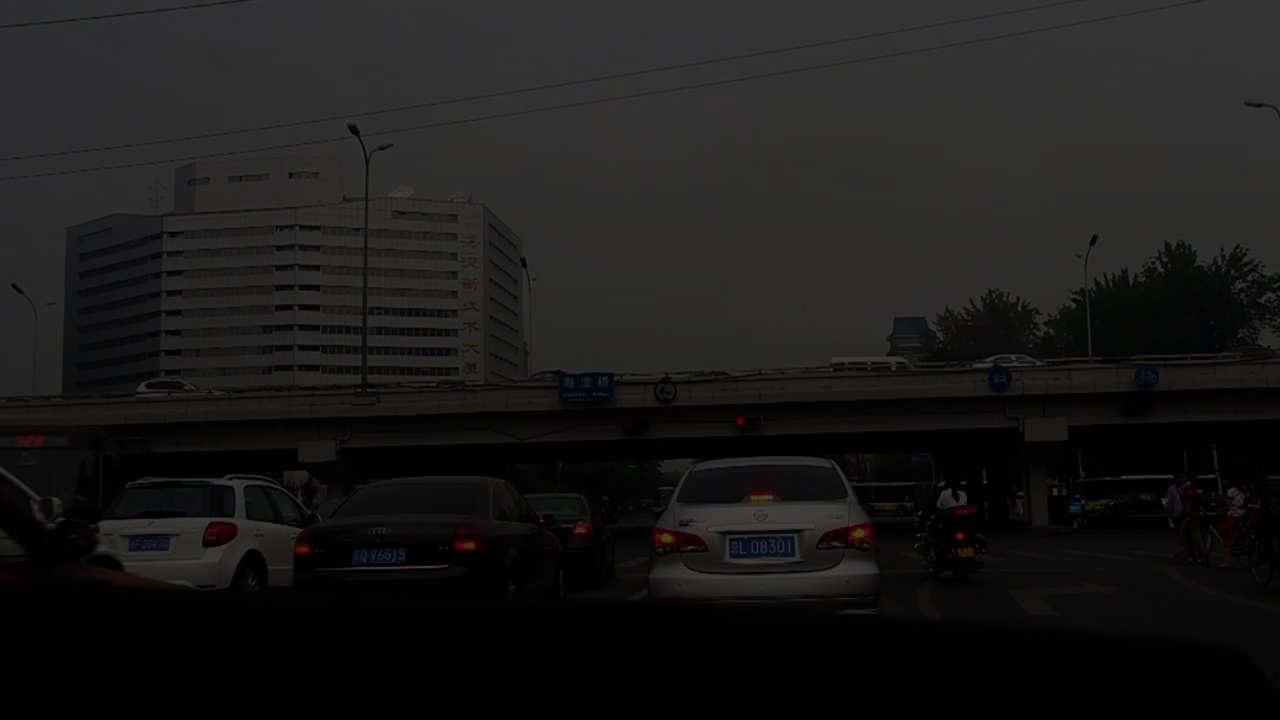Informative Signs: (1132, 361, 1161, 393), (986, 365, 1013, 392)
Prohibitory Signs: (653, 379, 678, 404)
